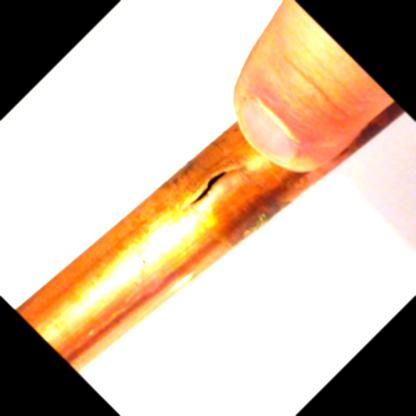burst: (188, 168, 241, 220)
